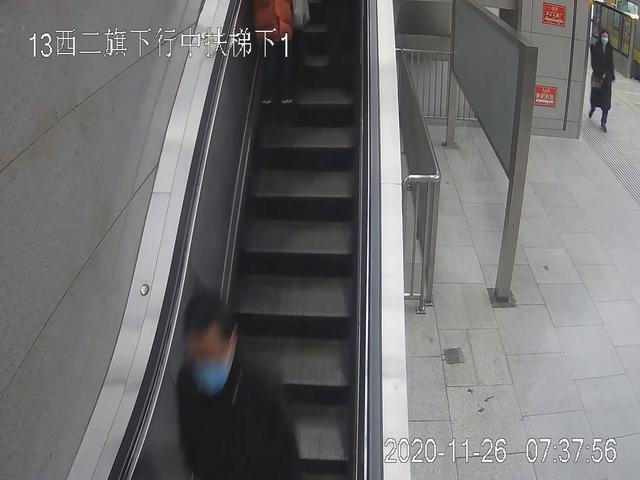person: (178, 294, 300, 480), (588, 30, 615, 131)
